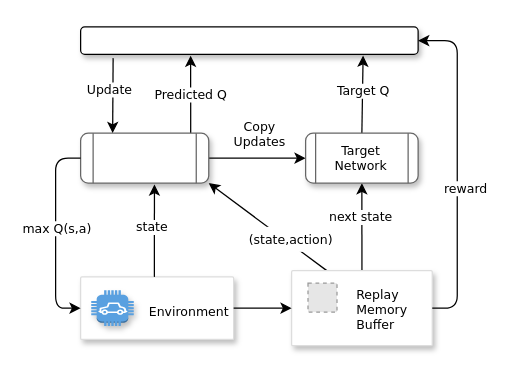
The diagram is 509 pixels wide and 376 high, and some of its shapes have lost their labels. Grey dashed boxes stand in for pictures. The centre of each missing label's shape, as x and y in pixels:
Loss Function: the point at 250,42
Q Network: the point at 145,159
